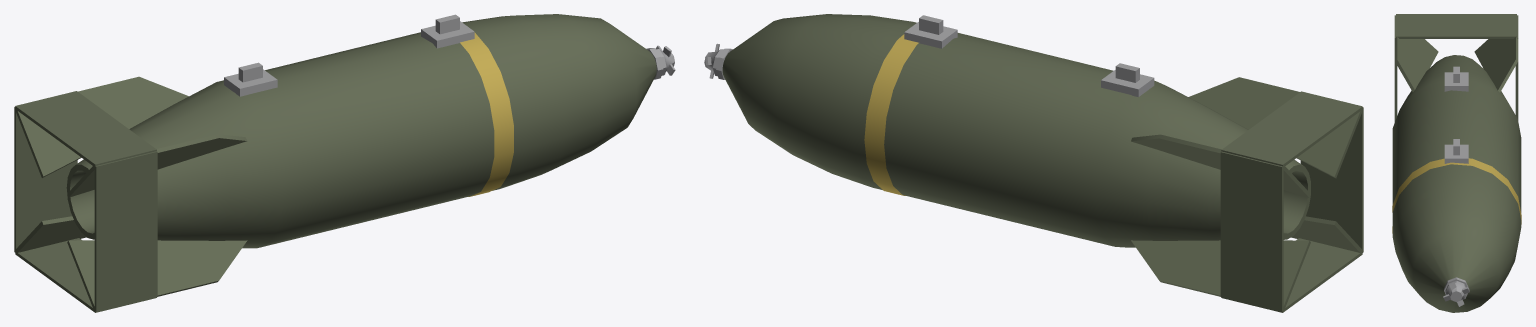
The model's file is bombs_2.glb.
3 views of the same model, side by side, from view 1: azimuth 30°, elevation 25°; view 2: azimuth 150°, elevation 25°; view 3: azimuth 270°, elevation 25° (orthographic). The views are drawn at different scales.
Parts seen in each view (by area): view 1: bombs_2; view 2: bombs_2; view 3: bombs_2.
Boxes of the visible parts, box(x1,y1,x2,y2) form: bombs_2: box(14, 14, 675, 312); bombs_2: box(704, 14, 1363, 312); bombs_2: box(1392, 14, 1521, 312).
Size of the model in its own units: 0.53 by 0.1424 by 0.1279.
